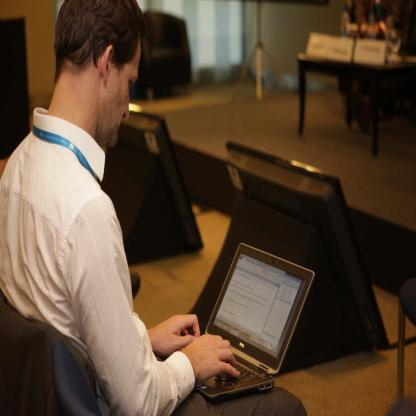board: (195, 240, 315, 400)
